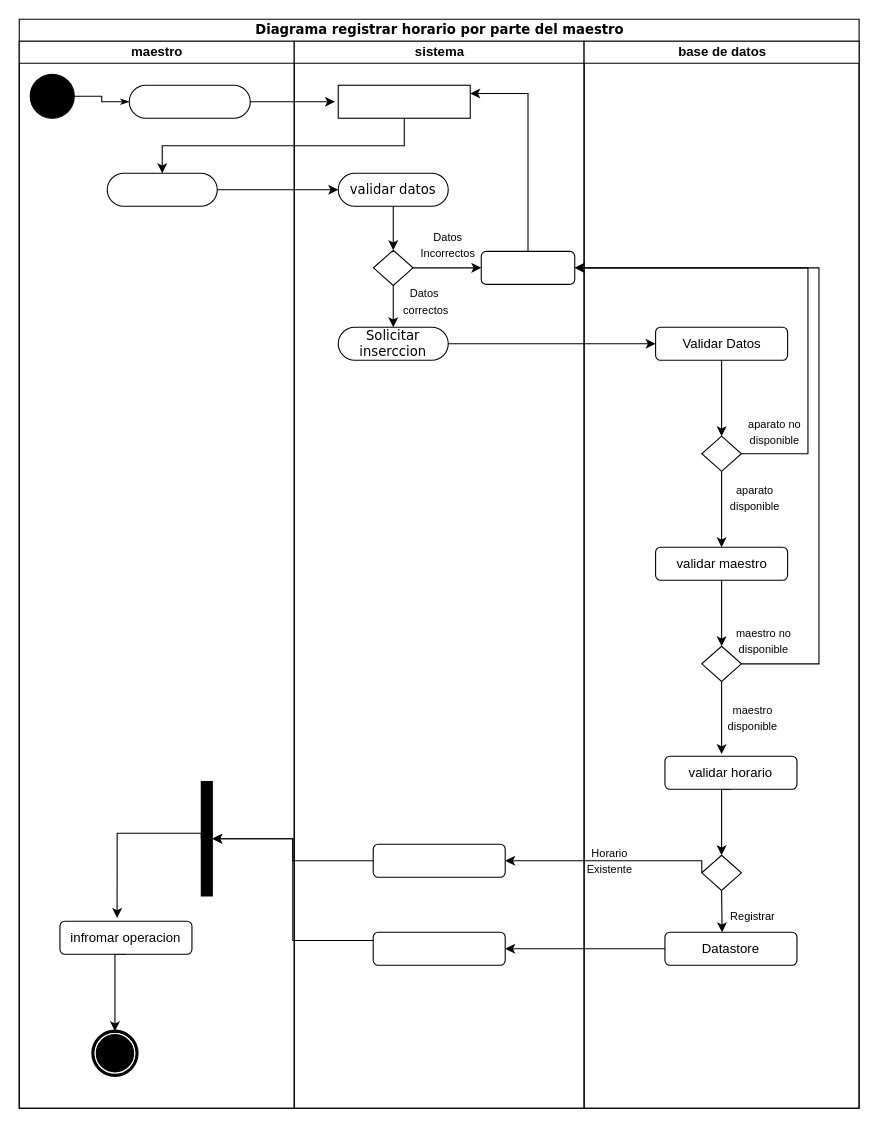
The diagram is 879 pixels wide and 1128 high, and some of its shapes have lost their labels. The shapes that lost their labels are listed below. From the top down, each one's centre as x and y in pixels, then its label:
At [189,101]: "Solicitar Registro horario".
At [403,101]: "Mostrar Interfaz".
At [161,189]: "Llenar campos requeridos".
At [527,267]: "Mensaje error".
At [438,860]: "dengar registro".
At [438,948]: "informar registro".
